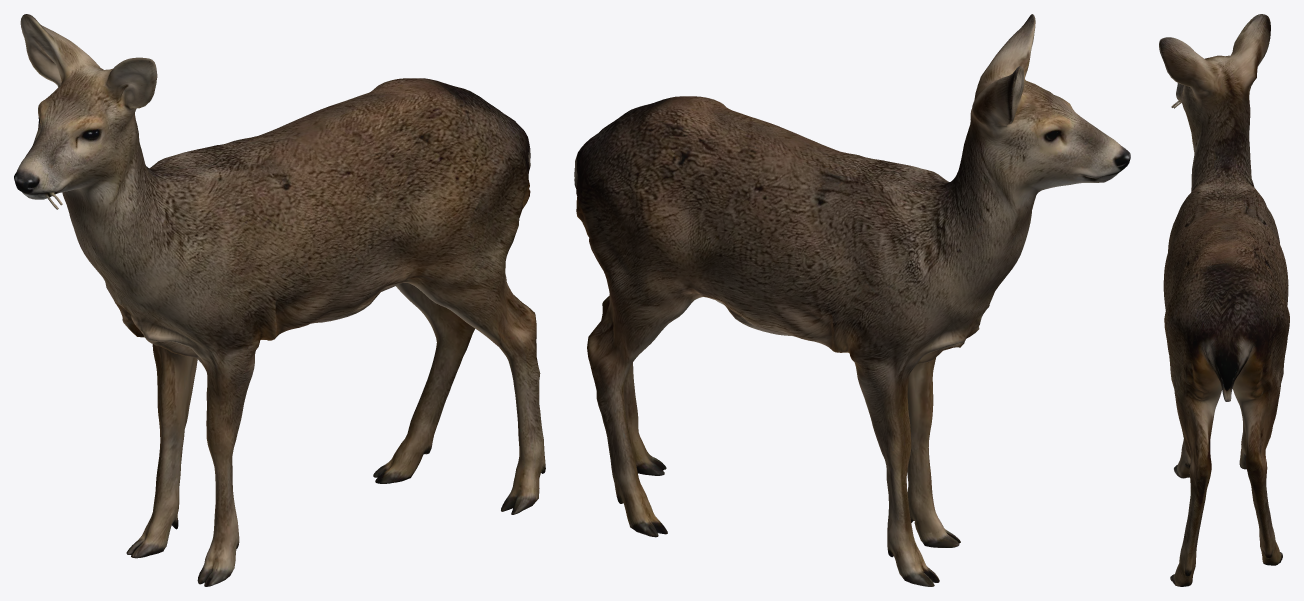
Rendered from deer.glb.
3 views of the same model, side by side, from view 1: azimuth 30°, elevation 25°; view 2: azimuth 150°, elevation 25°; view 3: azimuth 270°, elevation 25° (orthographic). The views are drawn at different scales.
Parts seen in each view (by area): view 1: tripo_node_8e020f4a; view 2: tripo_node_8e020f4a; view 3: tripo_node_8e020f4a.
Boxes of the visible parts, x1=… form: tripo_node_8e020f4a: x1=14, y1=14, x2=545, y2=586; tripo_node_8e020f4a: x1=574, y1=14, x2=1130, y2=586; tripo_node_8e020f4a: x1=1159, y1=14, x2=1289, y2=586.
Bounding box in the file's own units: 0.9777 × 0.9791 × 0.2805.
Materials: 1 (1 with a texture image).
